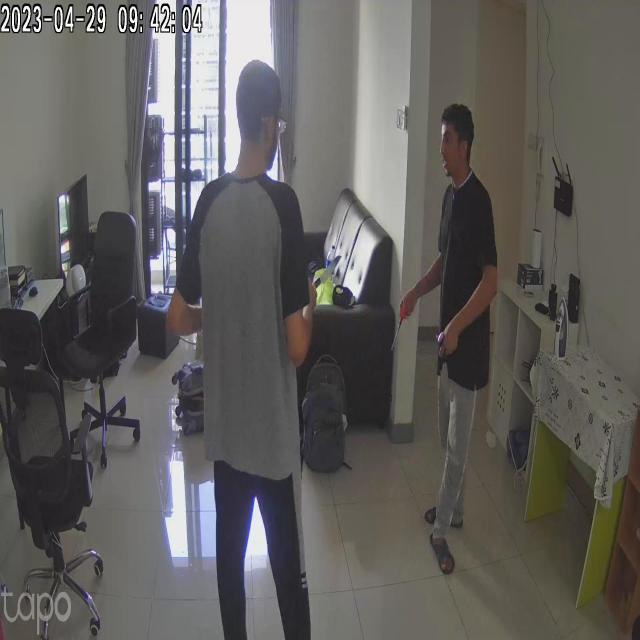Knife: (383, 295, 417, 356)
